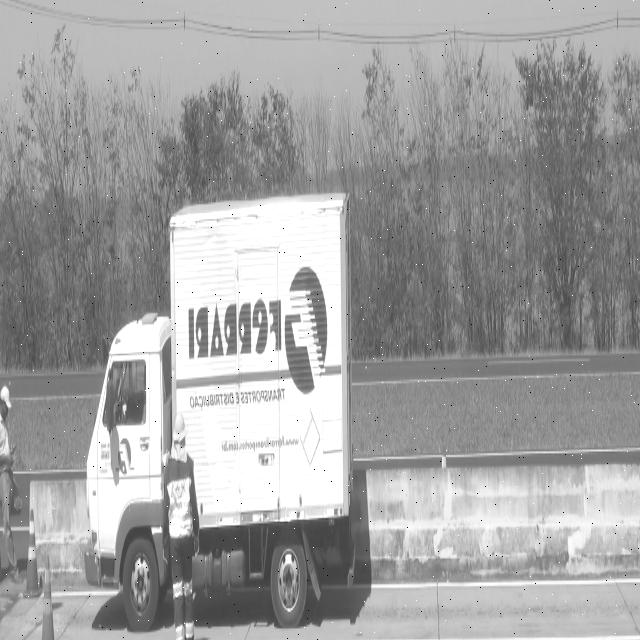-axle: (122, 533, 158, 630), (269, 538, 307, 626)
